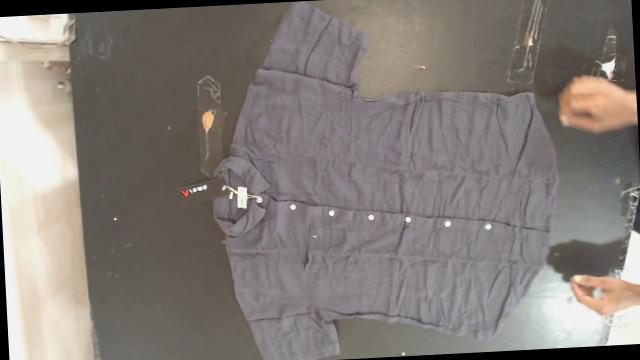new-garment: (213, 1, 557, 360)
